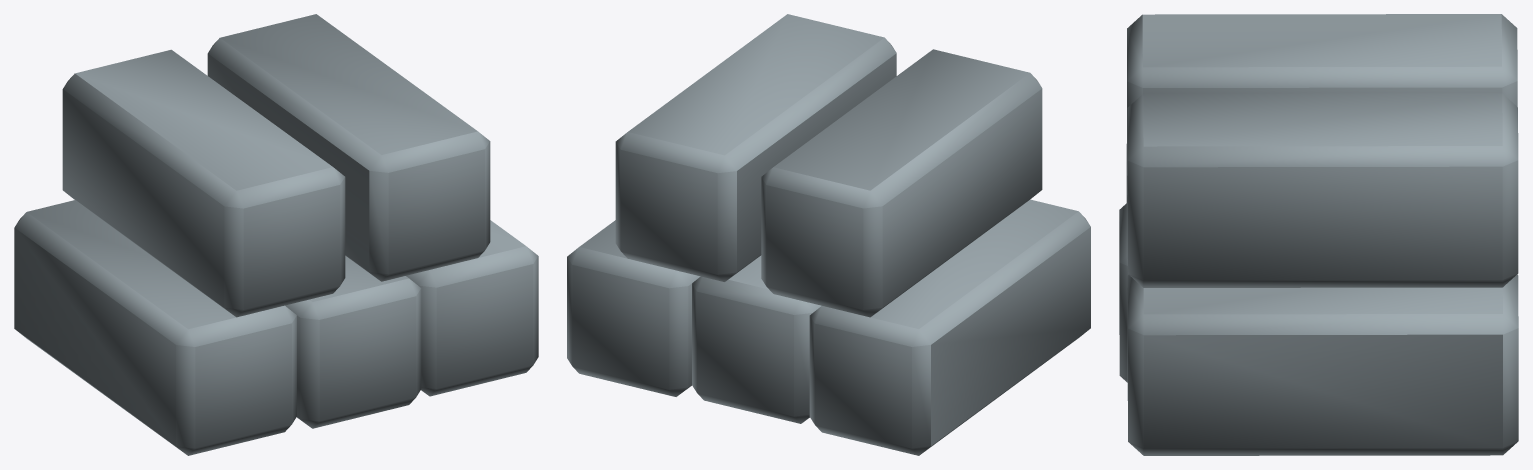
The model's file is resource_stone.glb.
The picture shows the model from 3 angles, left to right: view 1: azimuth 30°, elevation 25°; view 2: azimuth 150°, elevation 25°; view 3: azimuth 270°, elevation 25°; orthographic projection. The views are drawn at different scales.
Visible parts, largest first — view 1: resource_stone; view 2: resource_stone; view 3: resource_stone.
Boxes of the visible parts, bbox=[...] form: resource_stone: bbox=[14, 14, 538, 455]; resource_stone: bbox=[567, 14, 1090, 455]; resource_stone: bbox=[1119, 14, 1518, 455].
Size of the model in its own units: 0.4211 by 0.28 by 0.3579.
1 material, 1 textured.
